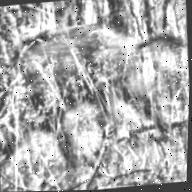boar: (0, 0, 177, 160)
